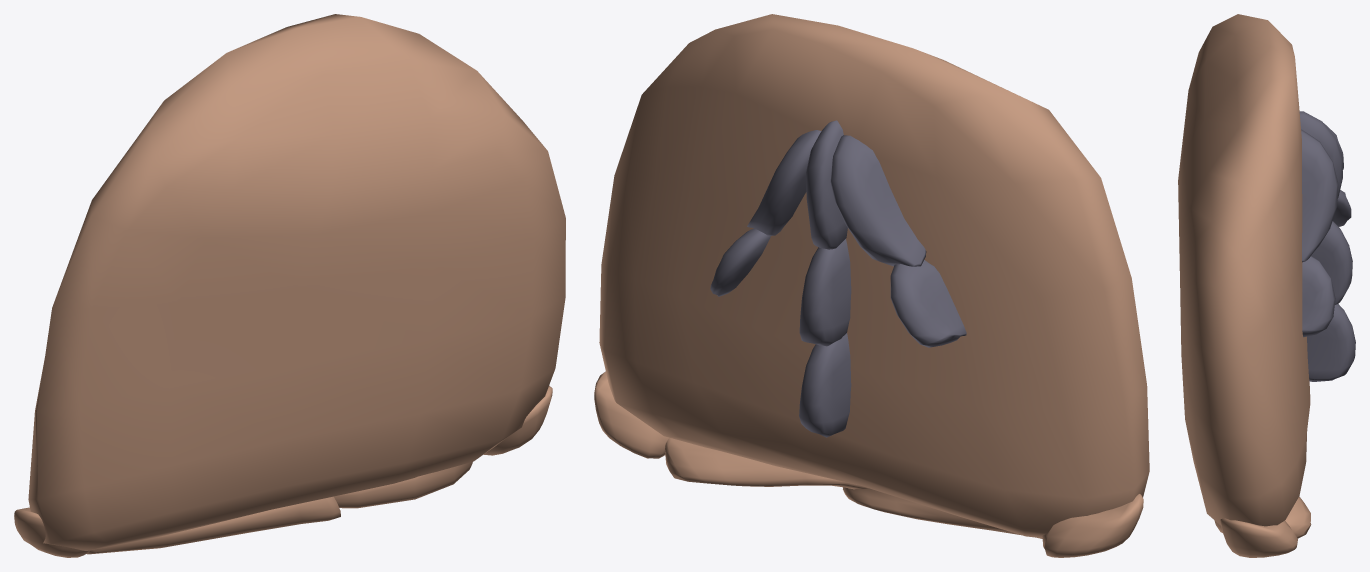
File: signUp.fbx
The picture shows the model from 3 angles, left to right: view 1: azimuth 30°, elevation 25°; view 2: azimuth 150°, elevation 25°; view 3: azimuth 270°, elevation 25°; orthographic projection. The views are drawn at different scales.
Visible parts, largest first — view 1: sign_up; view 2: sign_up; view 3: sign_up.
Part boxes in pixels (<box>): sign_up: <box>14,14,565,557</box>; sign_up: <box>594,14,1149,557</box>; sign_up: <box>1178,14,1355,557</box>.
Bounding box in the file's own units: 1.21 × 1.05 × 0.385.
